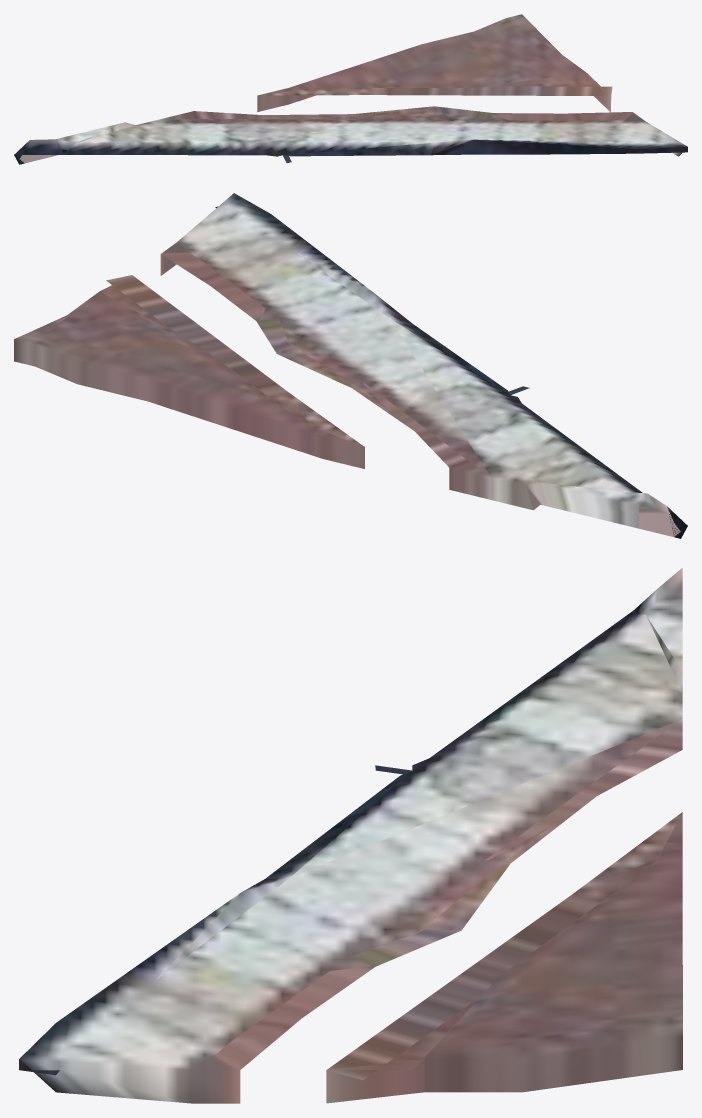
The picture shows the model from 3 angles, top to bottom: view 1: azimuth 30°, elevation 25°; view 2: azimuth 150°, elevation 25°; view 3: azimuth 270°, elevation 25°; orthographic projection. The views are drawn at different scales.
Parts seen in each view (by area): view 1: 30436272704361727437_0; view 2: 30436272704361727437_0; view 3: 30436272704361727437_0.
Boxes of the visible parts, x1,y1,x2,y2 form: 30436272704361727437_0: (14,14,687,164); 30436272704361727437_0: (14,193,687,538); 30436272704361727437_0: (19,568,682,1103).
Size of the model in its own units: 15.03 by 0.9261 by 8.33.
Materials: 1 (1 with a texture image).
